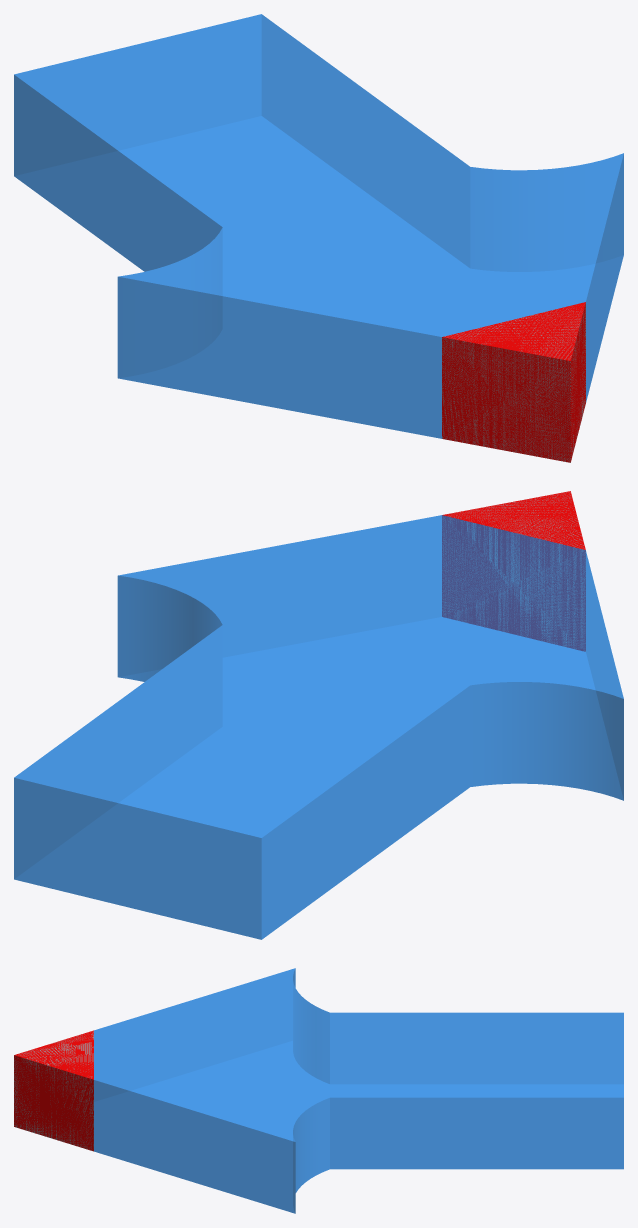
The model's file is arrow.fbx.
3 renders of one model, top to bottom at view 1: azimuth 30°, elevation 25°; view 2: azimuth 150°, elevation 25°; view 3: azimuth 270°, elevation 25°, orthographic. The views are drawn at different scales.
Visible parts, largest first — view 1: arrow1; view 2: arrow1; view 3: arrow1.
Part boxes in pixels (left/top/right/bottom): arrow1: left=14, top=14, right=623, bottom=462; arrow1: left=14, top=491, right=623, bottom=939; arrow1: left=14, top=968, right=623, bottom=1213.
Size of the model in its own units: 46.5 by 8.94 by 68.88.
